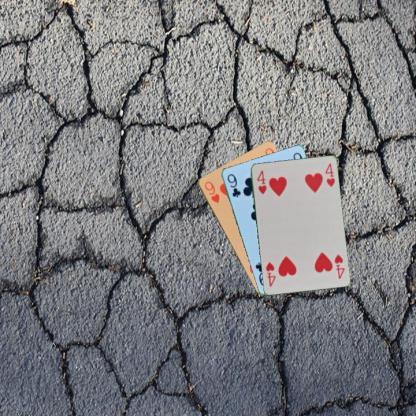4h: (332, 252, 346, 280), (254, 168, 268, 195)
9c: (224, 171, 242, 199)
9h: (202, 178, 220, 204)
